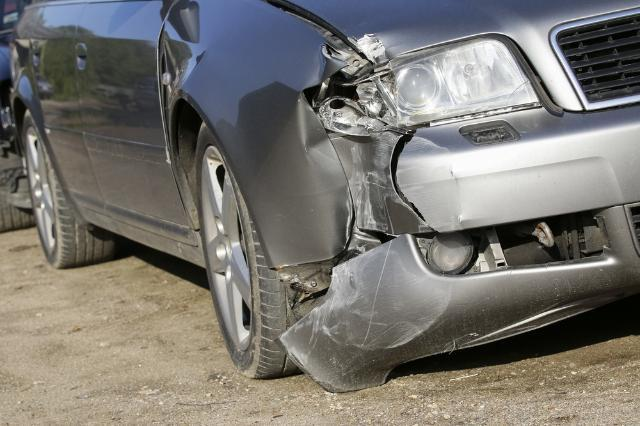crack: (390, 129, 439, 233)
dent: (301, 92, 348, 251), (310, 50, 333, 85)
dislocated part: (271, 229, 456, 395)
lamp broken: (339, 34, 544, 131)
scratch: (280, 239, 454, 370), (397, 136, 464, 233), (348, 132, 409, 235), (345, 31, 388, 63), (345, 183, 353, 247)
